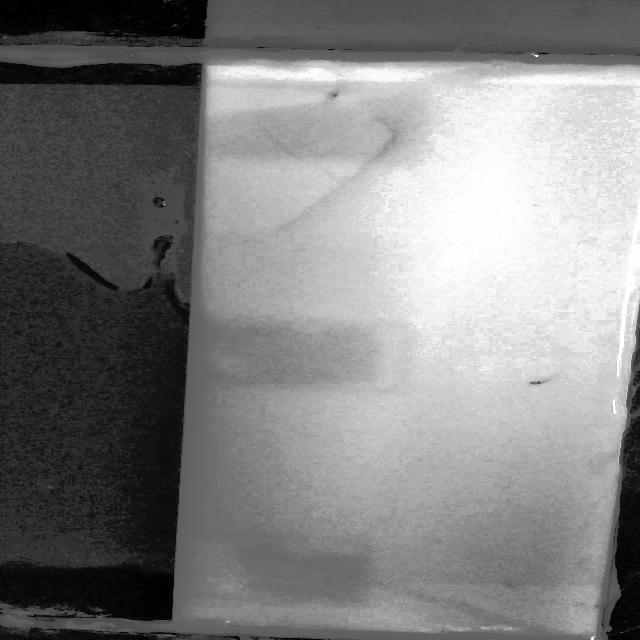shrimp: (524, 377, 557, 388), (497, 577, 521, 592), (323, 89, 344, 103)
